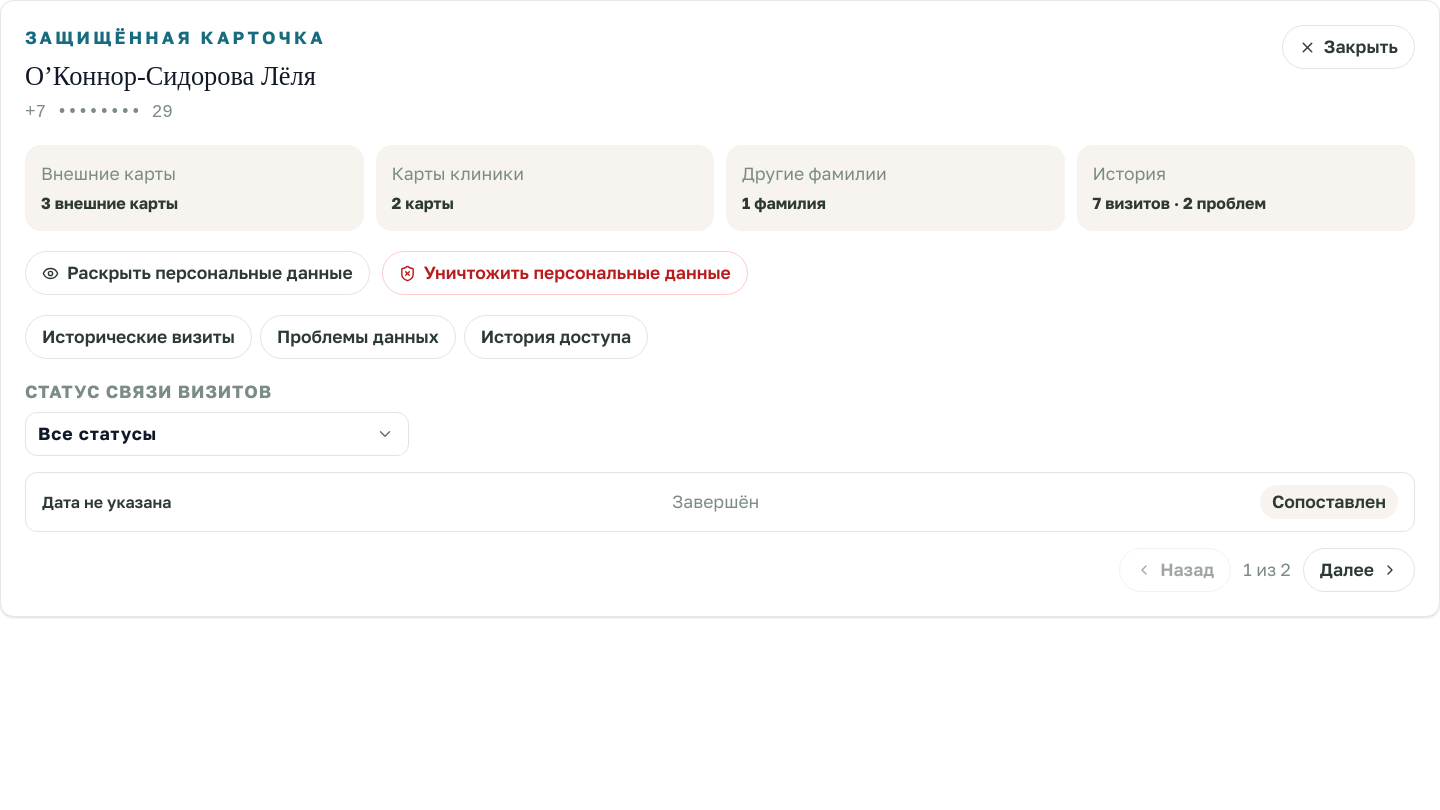
PatientDetails › keeps the newest visit-filter response when an older request finishes last
The image size is (1440, 810).
Expected: the text "Дата не указана" is shown, x1=42 y1=490 x2=172 y2=514
Step 1. Select "Сопоставленные" in the dropdown labelled "Статус связи визитов" → (217, 434), box x1=25 y1=412 x2=409 y2=456
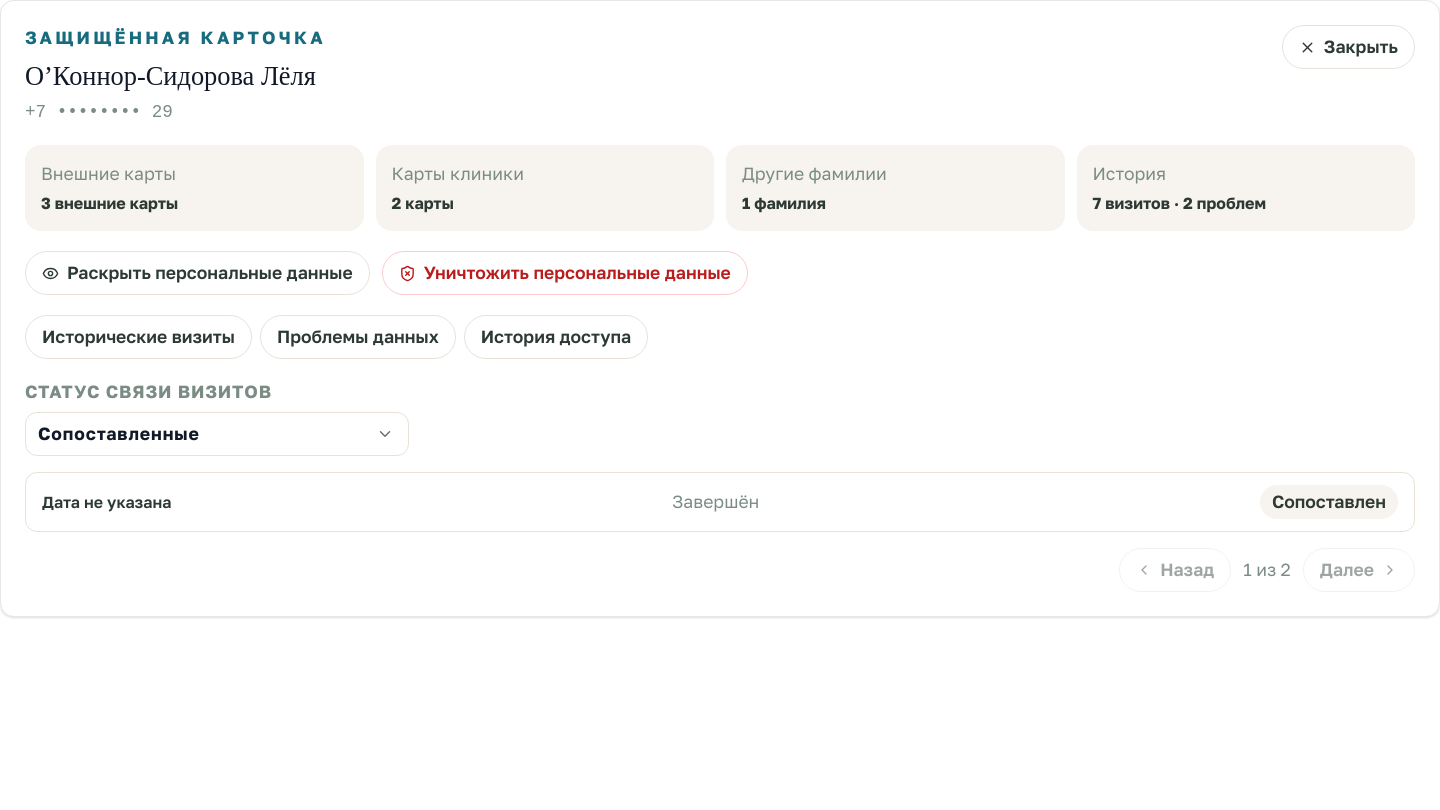
Step 2. Select "Не сопоставленные" in the dropdown labelled "Статус связи визитов" → (217, 434), box x1=25 y1=412 x2=409 y2=456
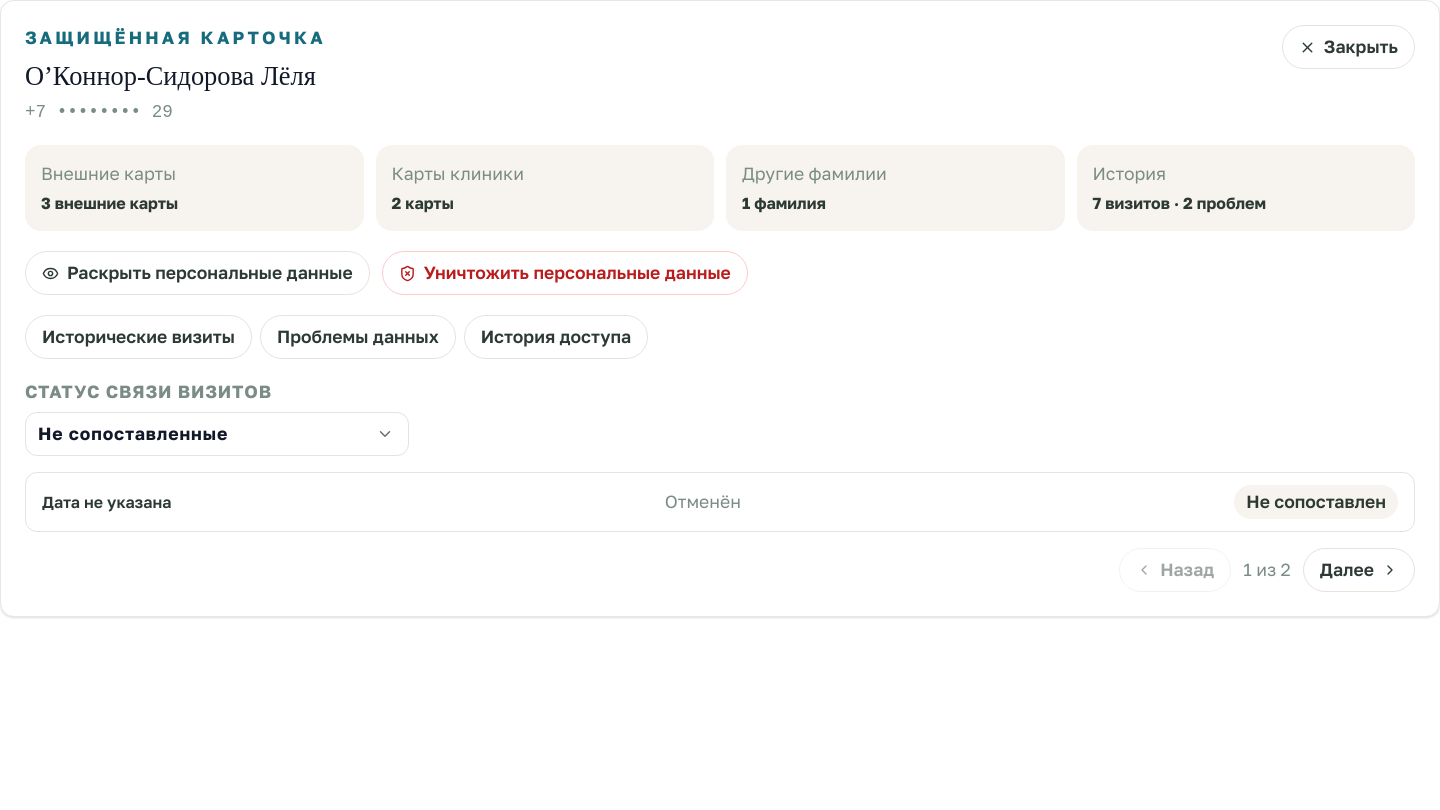
Expected: the text "Отменён" is shown, x1=665 y1=489 x2=741 y2=515
